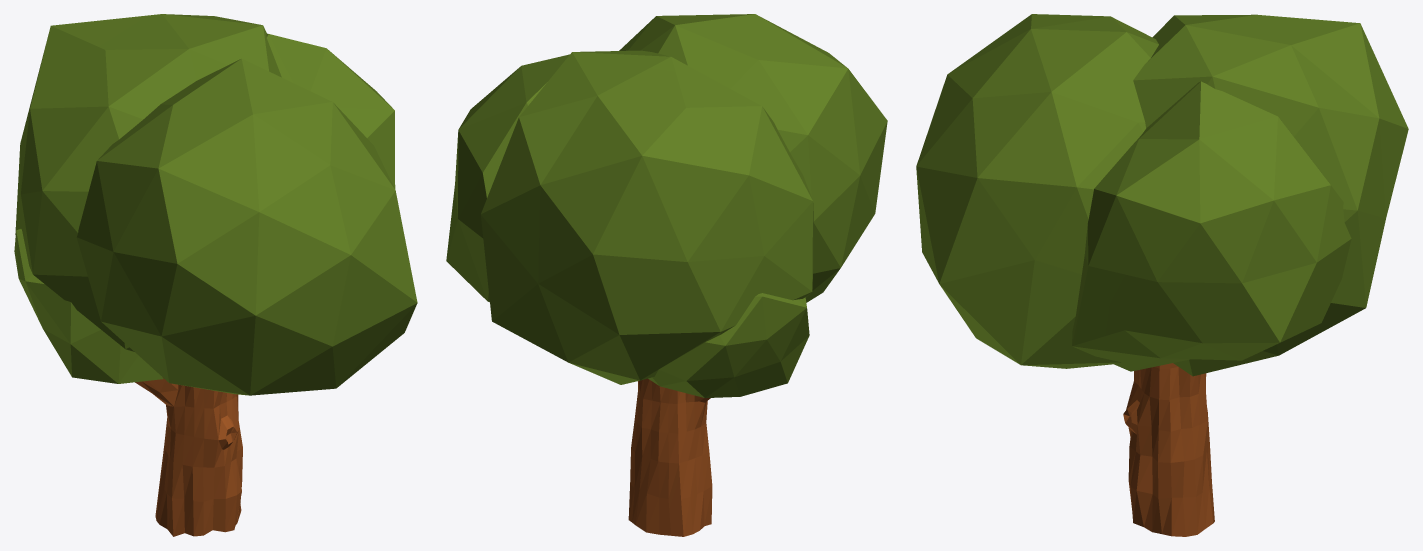
Rendered from treeeeeeeeee.fbx.
3 renders of one model, left to right at view 1: azimuth 30°, elevation 25°; view 2: azimuth 150°, elevation 25°; view 3: azimuth 270°, elevation 25°, orthographic. The views are drawn at different scales.
Visible parts, largest first — view 1: Icosphere, Cylinder; view 2: Icosphere, Cylinder; view 3: Icosphere, Cylinder.
Part boxes in pixels (<box>): Icosphere: <box>14,14,417,395</box>; Cylinder: <box>135,377,242,536</box>; Icosphere: <box>446,14,887,397</box>; Cylinder: <box>628,378,712,536</box>; Icosphere: <box>916,14,1408,376</box>; Cylinder: <box>1123,363,1214,536</box>.
Size of the model in its own units: 489 by 647 by 580.
